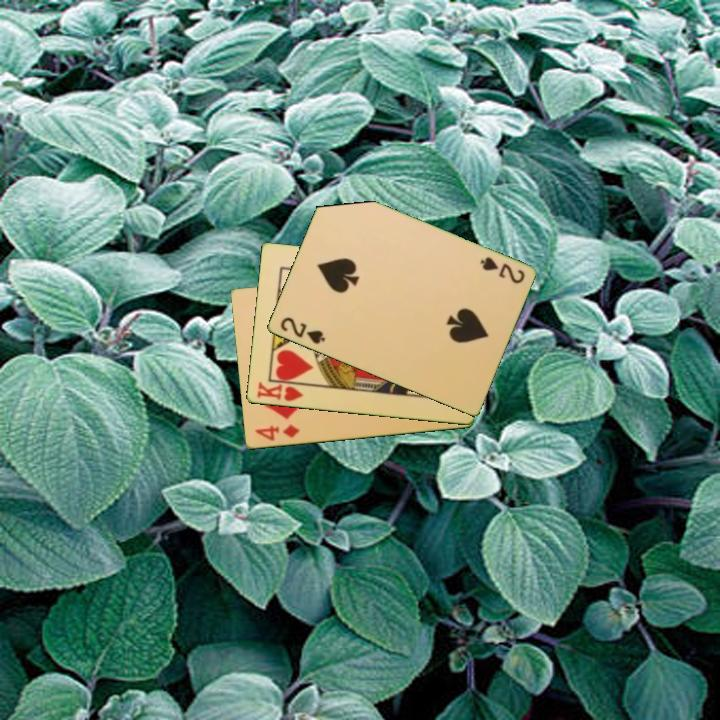2s: (476, 253, 527, 287), (276, 314, 328, 347)
4d: (251, 421, 302, 444)
Kh: (253, 378, 310, 404)
